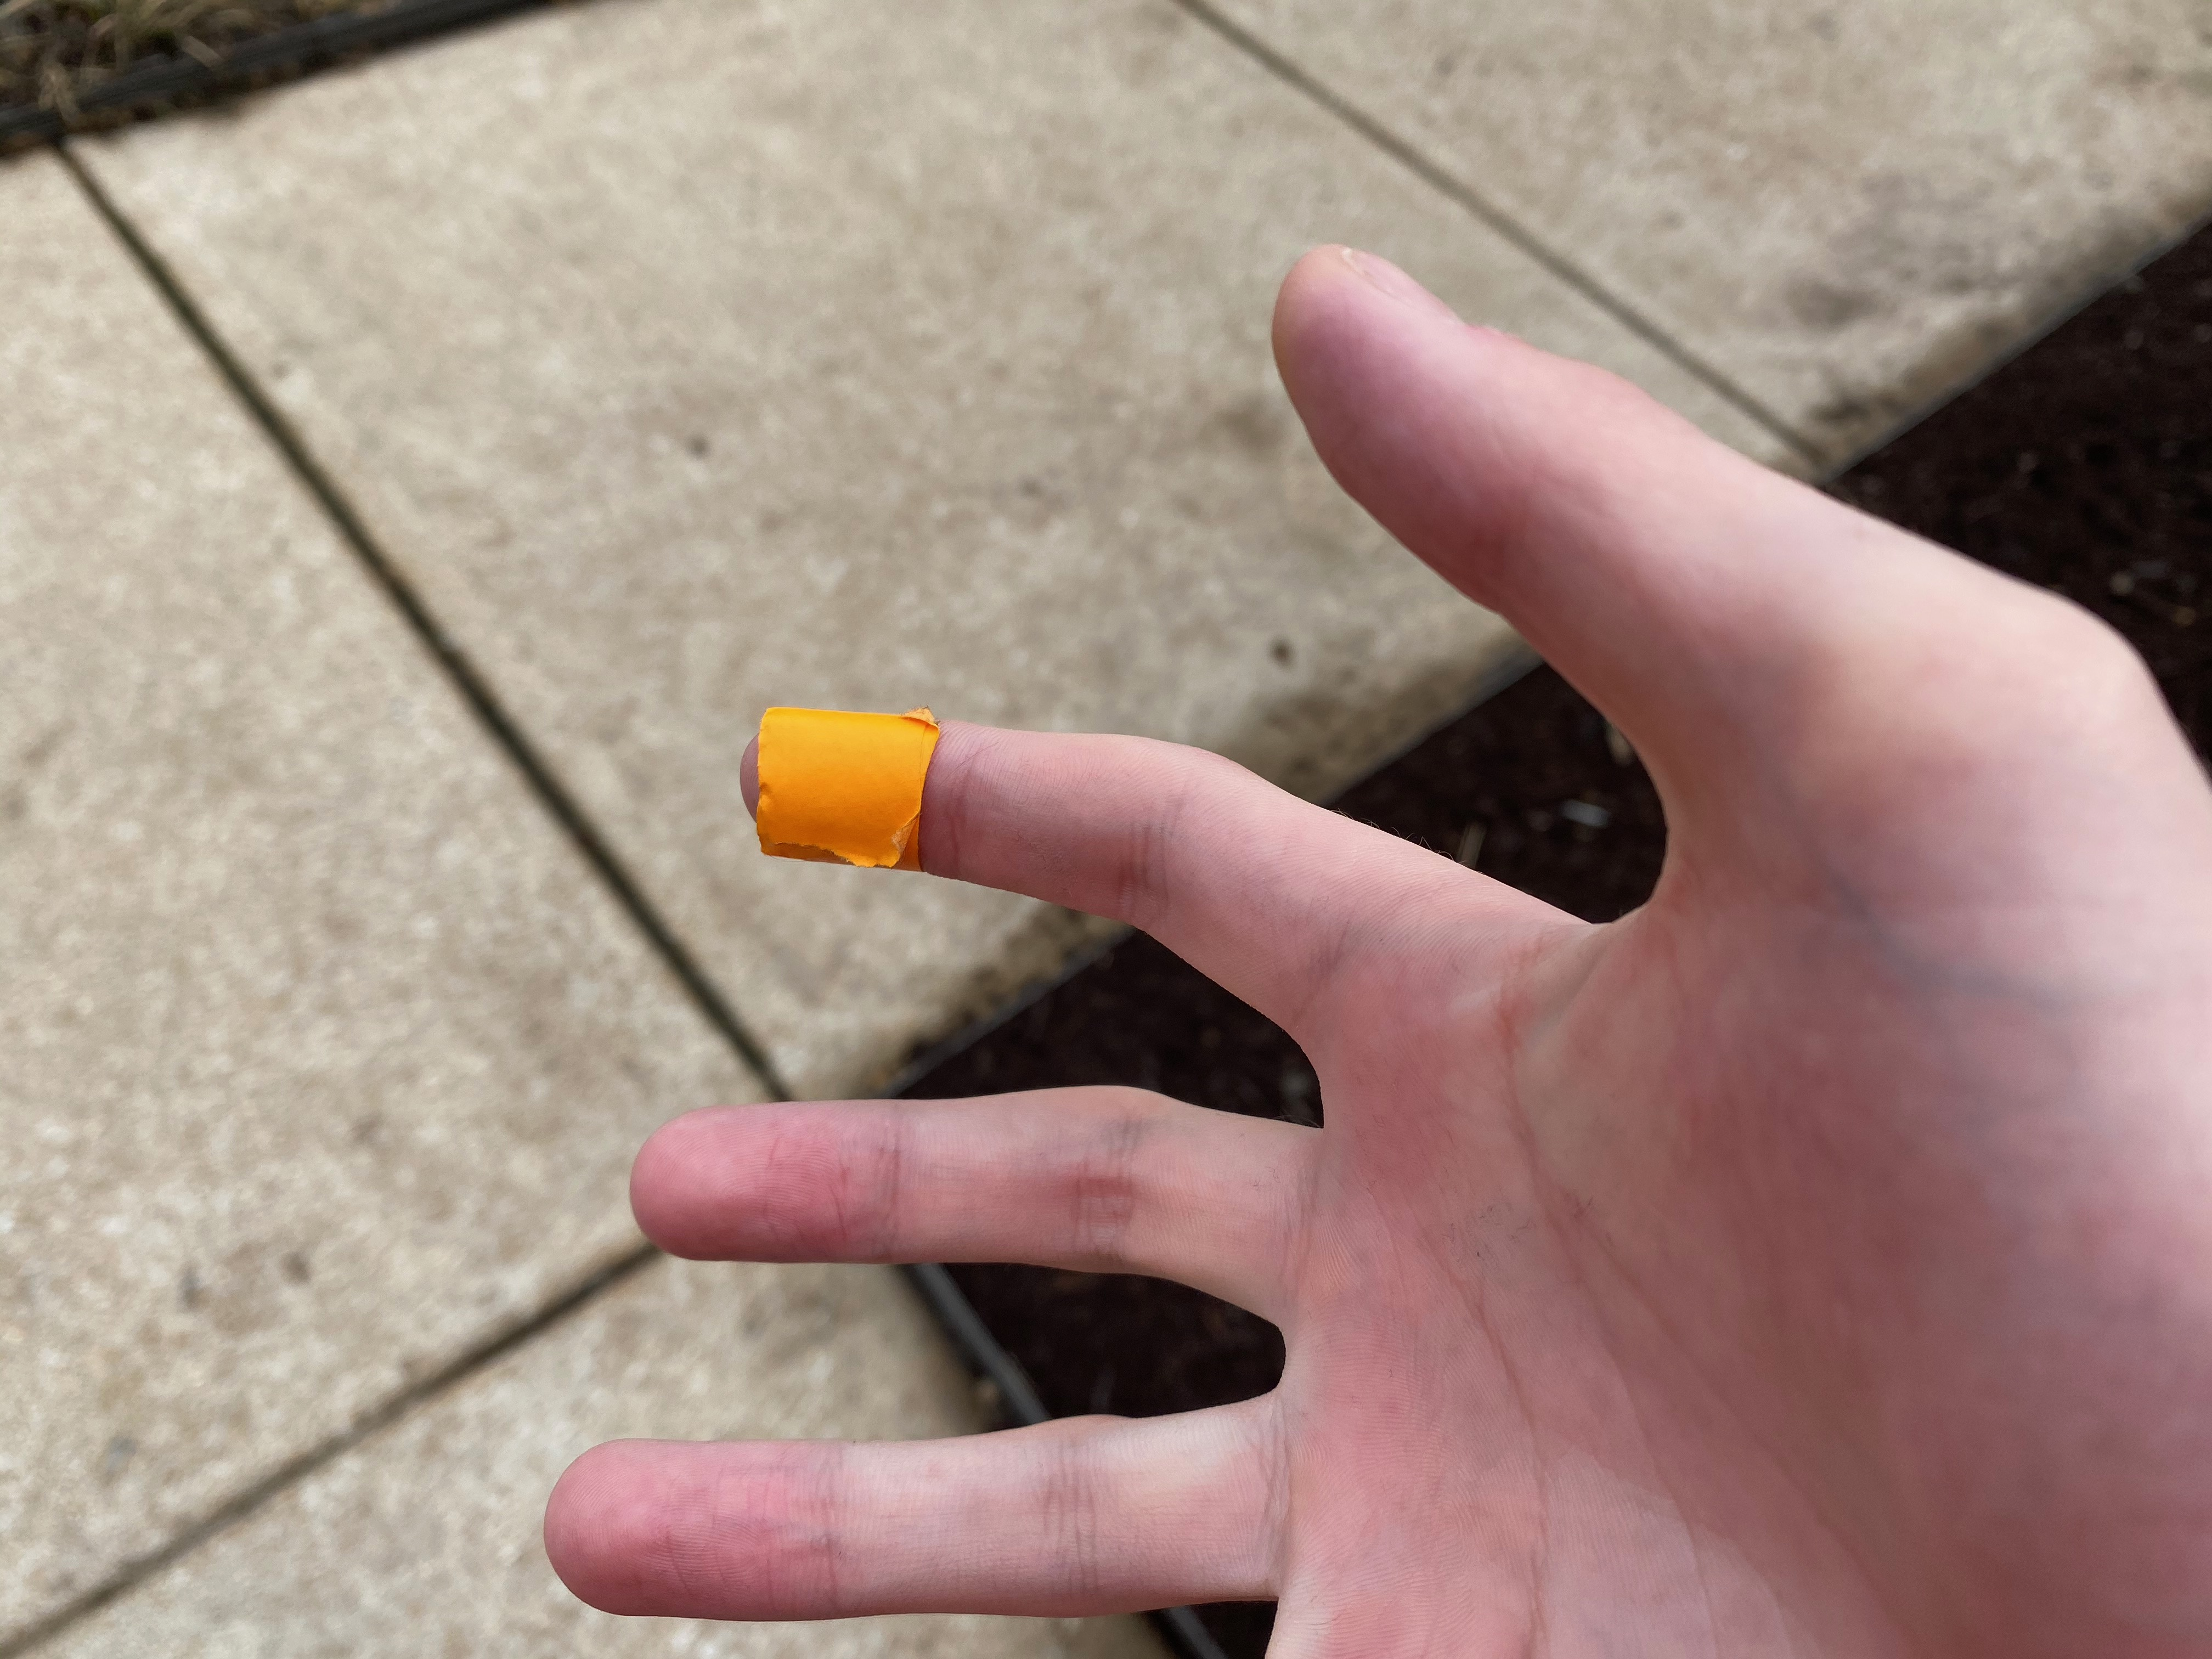fingertip: (695, 662, 979, 917)
